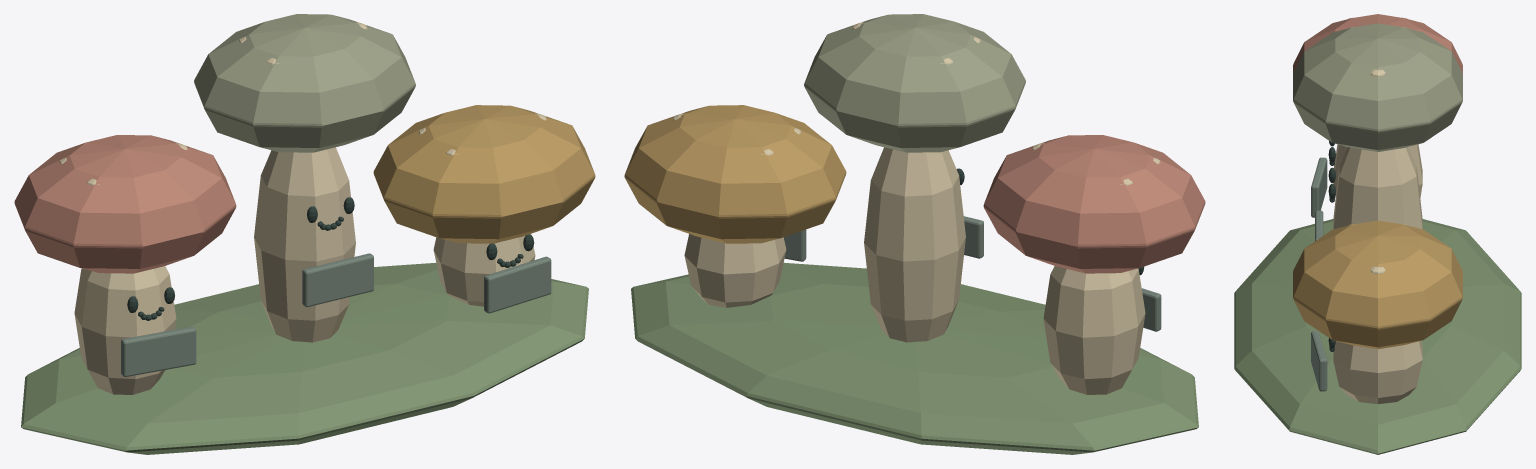
The model's file is mushroom-choir.glb.
3 renders of one model, left to right at view 1: azimuth 30°, elevation 25°; view 2: azimuth 150°, elevation 25°; view 3: azimuth 270°, elevation 25°, orthographic. The views are drawn at different scales.
Parts seen in each view (by area): view 1: mushroom-choir_Delight_Mesh, delight_Singer1_Mesh, delight_Singer0_Mesh, delight_Singer2_Mesh; view 2: mushroom-choir_Delight_Mesh, delight_Singer1_Mesh, delight_Singer0_Mesh, delight_Singer2_Mesh; view 3: mushroom-choir_Delight_Mesh, delight_Singer1_Mesh, delight_Singer2_Mesh, delight_Singer0_Mesh.
Boxes of the visible parts, <box> form: mushroom-choir_Delight_Mesh: <box>21,262,588,454</box>; delight_Singer1_Mesh: <box>194,14,415,342</box>; delight_Singer0_Mesh: <box>14,135,236,394</box>; delight_Singer2_Mesh: <box>373,105,595,313</box>; mushroom-choir_Delight_Mesh: <box>631,262,1198,454</box>; delight_Singer1_Mesh: <box>804,14,1025,342</box>; delight_Singer0_Mesh: <box>983,135,1205,394</box>; delight_Singer2_Mesh: <box>624,105,846,307</box>; mushroom-choir_Delight_Mesh: <box>1234,219,1521,454</box>; delight_Singer1_Mesh: <box>1293,23,1462,240</box>; delight_Singer2_Mesh: <box>1293,220,1462,403</box>; delight_Singer0_Mesh: <box>1293,14,1462,217</box>.
Bounding box in the file's own units: 2.47 × 1.5 × 1.22.
